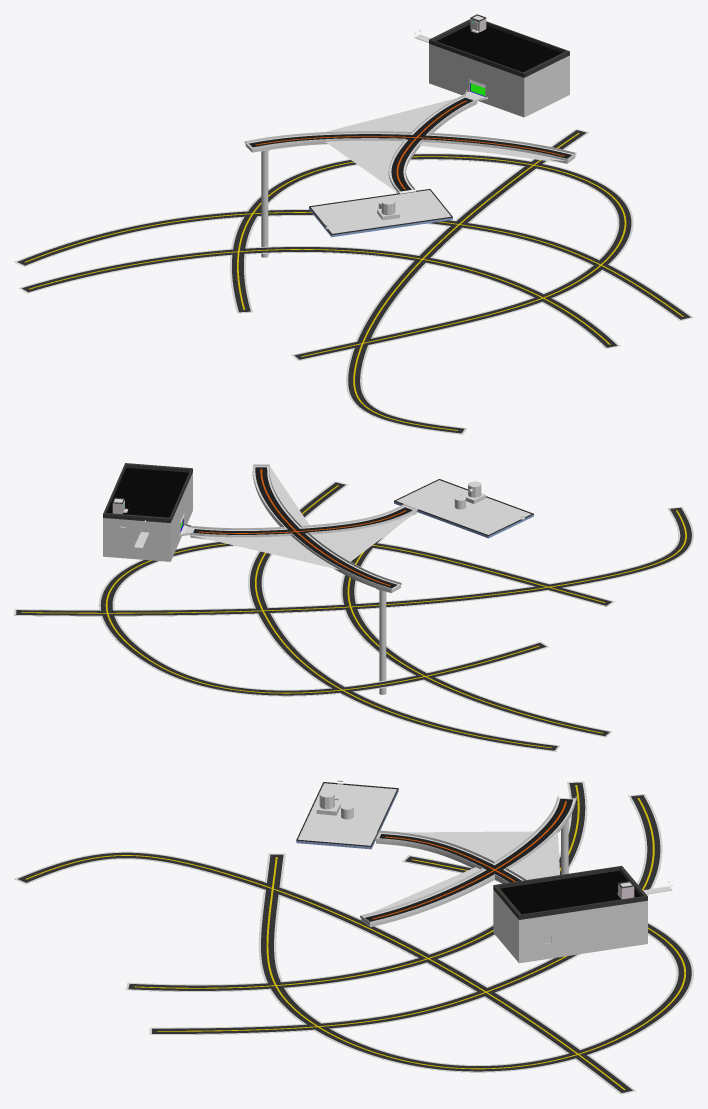
File: Megacity-Redreamed_iter2.fbx
3 renders of one model, top to bottom at view 1: azimuth 30°, elevation 25°; view 2: azimuth 150°, elevation 25°; view 3: azimuth 270°, elevation 25°, orthographic. The views are drawn at different scales.
Visible parts, largest first — view 1: lowerRoad2, Cube.005, loverRoadPavement, 4, Cube.017, lowerRoad1, 2, 3_2, Cylinder.004, 1; view 2: lowerRoad2, loverRoadPavement, Cube.005, 4, Cube.017, lowerRoad1, 2, 3_2, Cylinder.004, 1; view 3: lowerRoad2, Cube.005, loverRoadPavement, 4, Cube.017, lowerRoad1, 2, 3_3, 3_2, 1.
Part boxes in pixels (<box>): lowerRoad2: <box>17,130,690,433</box>; Cube.005: <box>429,19,569,117</box>; loverRoadPavement: <box>14,129,693,434</box>; 4: <box>244,94,576,193</box>; Cube.017: <box>309,189,452,237</box>; lowerRoad1: <box>24,133,683,430</box>; 2: <box>249,97,571,191</box>; 3_2: <box>246,96,572,191</box>; Cylinder.004: <box>261,151,268,257</box>; 1: <box>255,100,564,189</box>; lowerRoad2: <box>16,482,691,750</box>; loverRoadPavement: <box>14,481,693,751</box>; Cube.005: <box>103,463,192,561</box>; 4: <box>189,464,417,590</box>; Cube.017: <box>394,479,533,538</box>; lowerRoad1: <box>21,485,686,747</box>; 2: <box>193,467,412,588</box>; 3_2: <box>191,466,414,589</box>; Cylinder.004: <box>379,590,386,694</box>; 1: <box>198,469,406,585</box>; lowerRoad2: <box>18,782,691,1092</box>; Cube.005: <box>493,865,647,963</box>; loverRoadPavement: <box>14,781,693,1094</box>; 4: <box>360,795,576,924</box>; Cube.017: <box>296,782,398,849</box>; lowerRoad1: <box>25,785,685,1089</box>; 2: <box>365,799,572,921</box>; 3_3: <box>361,808,573,927</box>; 3_2: <box>364,797,574,917</box>; 1: <box>372,801,566,919</box>.
Size of the model in its own units: 1930 by 499 by 1772.
